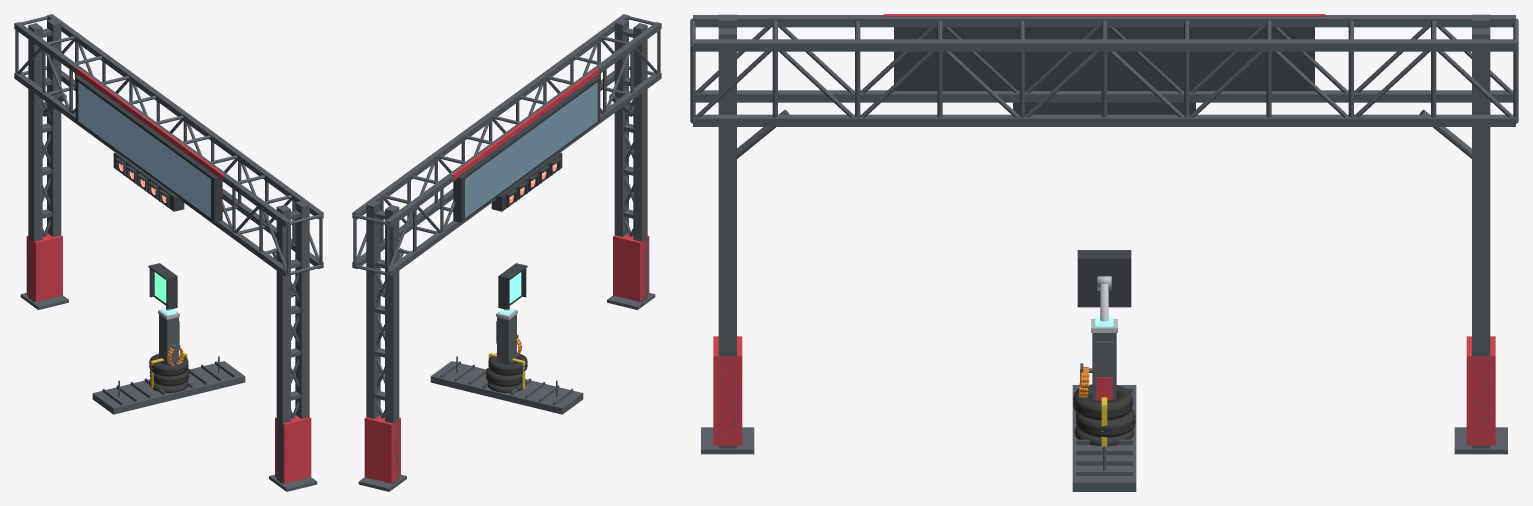
File: venue-props.glb
The picture shows the model from 3 angles, left to right: view 1: azimuth 30°, elevation 25°; view 2: azimuth 150°, elevation 25°; view 3: azimuth 270°, elevation 25°; orthographic projection. The views are drawn at different scales.
Parts seen in each view (by area): view 1: Gantry_Steel_Frame, Gantry_Crimson_Accents, Gantry_Scoreboard_Screen, HighBay_Housing, Gantry_Scoreboard_Housing, Gantry_Light_Housing, Tire_Stack_Rubber, Charging_Stanchion_Body, Marshal_Panel_Housing; view 2: Gantry_Steel_Frame, Gantry_Crimson_Accents, Gantry_Scoreboard_Screen, HighBay_Housing, Gantry_Scoreboard_Housing, Tire_Stack_Rubber, Gantry_Light_Housing, Charging_Stanchion_Body, Marshal_Panel_Housing; view 3: Gantry_Steel_Frame, Gantry_Scoreboard_Housing, Gantry_Crimson_Accents, HighBay_Housing, Marshal_Panel_Housing, Tire_Stack_Rubber, Gantry_Light_Housing, Charging_Stanchion_Body.
Boxes of the visible parts, x1=… form: Gantry_Steel_Frame: x1=14, y1=14, x2=323, y2=491; Gantry_Crimson_Accents: x1=26, y1=68, x2=311, y2=483; Gantry_Scoreboard_Screen: x1=78, y1=82, x2=210, y2=217; HighBay_Housing: x1=92, y1=356, x2=245, y2=414; Gantry_Scoreboard_Housing: x1=75, y1=76, x2=222, y2=222; Gantry_Light_Housing: x1=113, y1=152, x2=184, y2=211; Tire_Stack_Rubber: x1=149, y1=353, x2=189, y2=392; Charging_Stanchion_Body: x1=159, y1=314, x2=180, y2=363; Marshal_Panel_Housing: x1=148, y1=263, x2=177, y2=309; Gantry_Steel_Frame: x1=352, y1=14, x2=661, y2=491; Gantry_Crimson_Accents: x1=364, y1=68, x2=649, y2=483; Gantry_Scoreboard_Screen: x1=465, y1=82, x2=597, y2=217; HighBay_Housing: x1=430, y1=356, x2=583, y2=414; Gantry_Scoreboard_Housing: x1=453, y1=76, x2=600, y2=222; Tire_Stack_Rubber: x1=486, y1=353, x2=527, y2=392; Gantry_Light_Housing: x1=491, y1=152, x2=562, y2=211; Charging_Stanchion_Body: x1=496, y1=314, x2=518, y2=363; Marshal_Panel_Housing: x1=498, y1=263, x2=527, y2=309; Gantry_Steel_Frame: x1=690, y1=14, x2=1518, y2=454; Gantry_Scoreboard_Housing: x1=894, y1=27, x2=1314, y2=90; Gantry_Crimson_Accents: x1=713, y1=14, x2=1495, y2=445; HighBay_Housing: x1=1072, y1=385, x2=1136, y2=491; Marshal_Panel_Housing: x1=1077, y1=250, x2=1131, y2=307; Tire_Stack_Rubber: x1=1073, y1=384, x2=1135, y2=446; Gantry_Light_Housing: x1=1013, y1=102, x2=1195, y2=114; Charging_Stanchion_Body: x1=1080, y1=333, x2=1116, y2=400.
Size of the model in its own units: 2.25 by 4.52 by 8.07.
